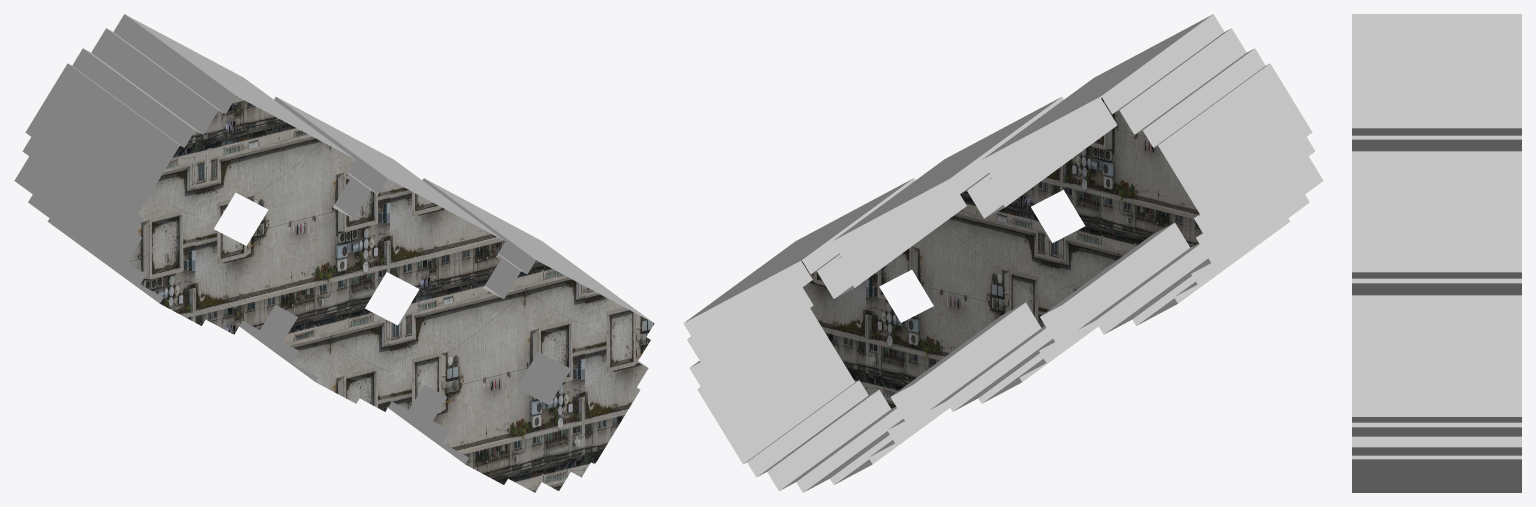
File: geospecific_319.obj
The picture shows the model from 3 angles, left to right: view 1: azimuth 30°, elevation 25°; view 2: azimuth 150°, elevation 25°; view 3: azimuth 270°, elevation 25°; orthographic projection. The views are drawn at different scales.
Parts seen in each view (by area): view 1: Building; view 2: Building; view 3: Building.
Part boxes in pixels (x1,y1,x2,y2): Building: (14,14,654,492); Building: (683,14,1323,492); Building: (1352,14,1521,492).
Bounding box in the file's own units: 48.83 × 41.86 × 18.
